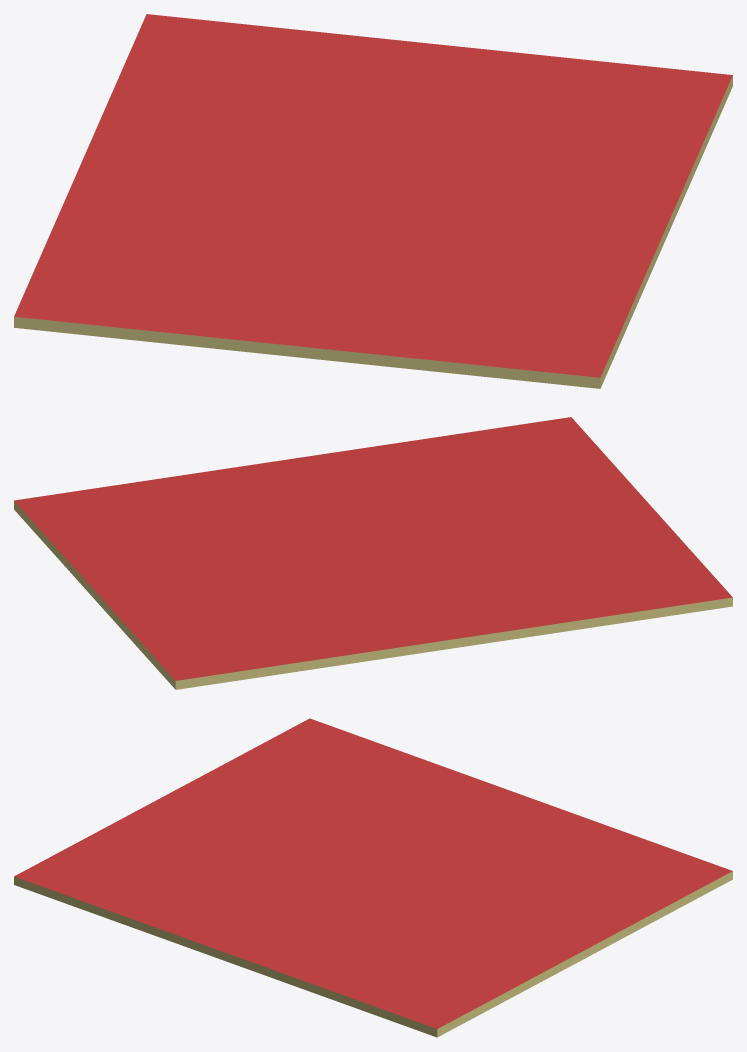
3 views of the same model, one above another, from view 1: azimuth 30°, elevation 25°; view 2: azimuth 150°, elevation 25°; view 3: azimuth 270°, elevation 25° (orthographic). The views are drawn at different scales.
Size of the model in its own units: 7.56 by 7.68 by 0.237.
